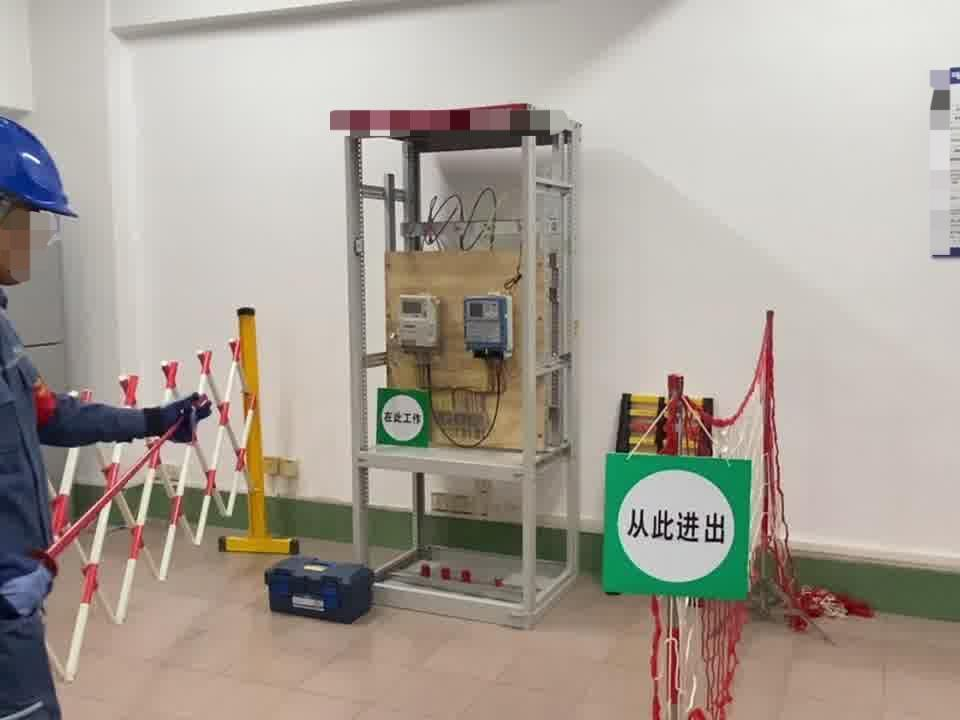halt: (3, 115, 80, 287)
